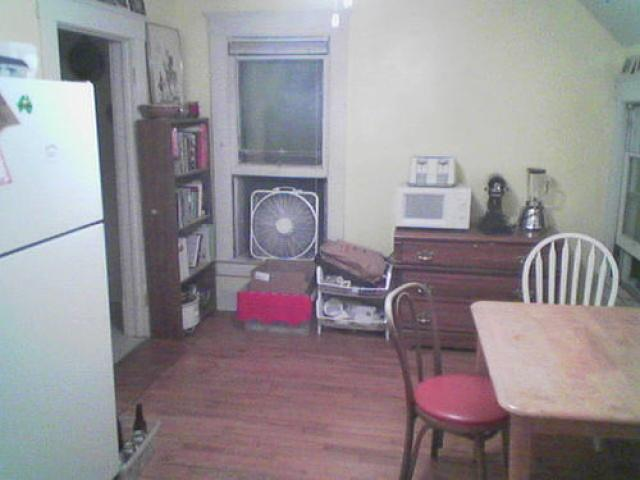Kursi: (384, 281, 511, 479)
Meja: (466, 298, 639, 479)
